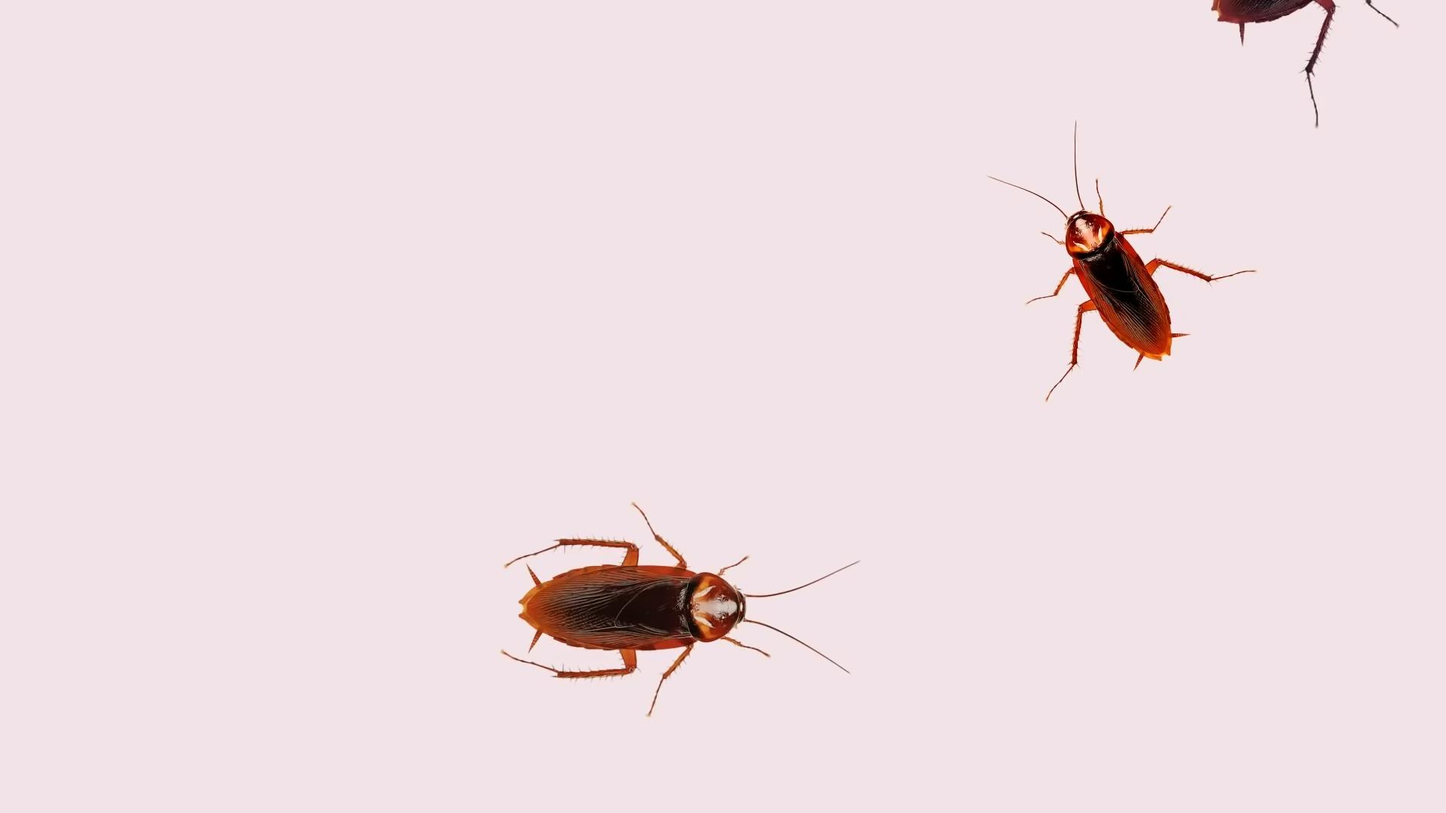cockroach: (479, 510, 866, 699), (970, 149, 1247, 393)
